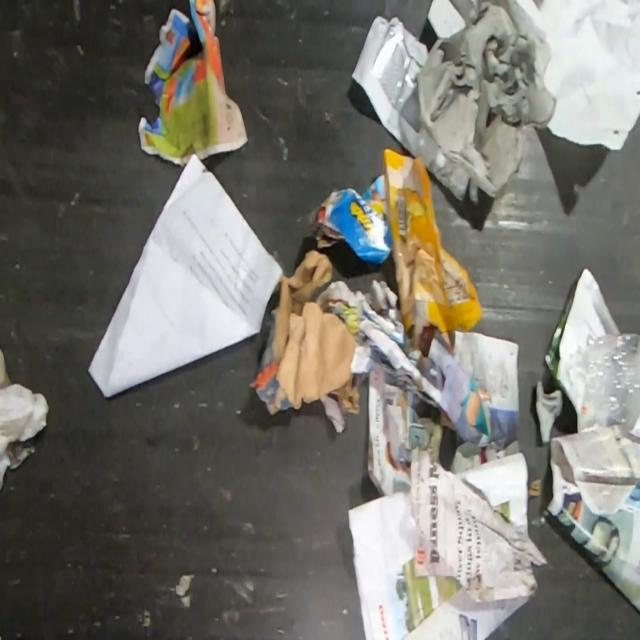cardboard: (308, 173, 394, 264)
soft_plastic: (410, 0, 556, 204), (576, 332, 640, 443)
